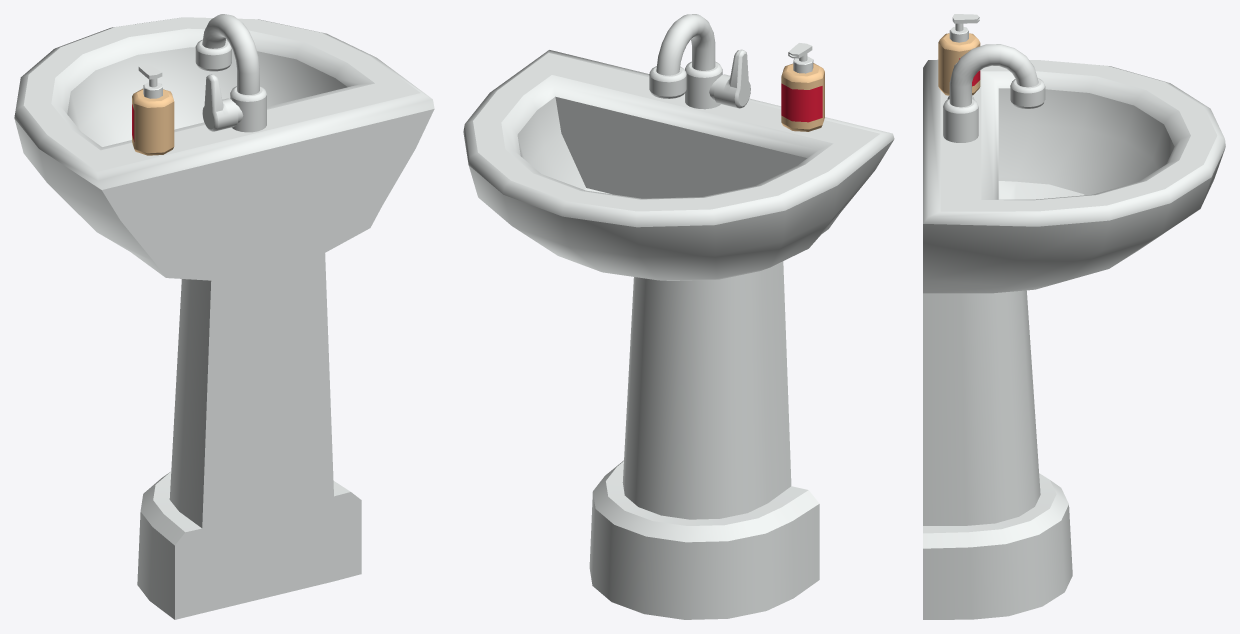
Rendered from Washbowl.fbx.
The picture shows the model from 3 angles, left to right: view 1: azimuth 30°, elevation 25°; view 2: azimuth 150°, elevation 25°; view 3: azimuth 270°, elevation 25°; orthographic projection. The views are drawn at different scales.
Visible parts, largest first — view 1: Washbowl; view 2: Washbowl; view 3: Washbowl.
Boxes of the visible parts, x1,y1,x2,y2 form: Washbowl: [14, 14, 434, 619]; Washbowl: [463, 14, 894, 619]; Washbowl: [923, 14, 1225, 619].
Bounding box in the file's own units: 0.6879 × 1.07 × 0.5513.
